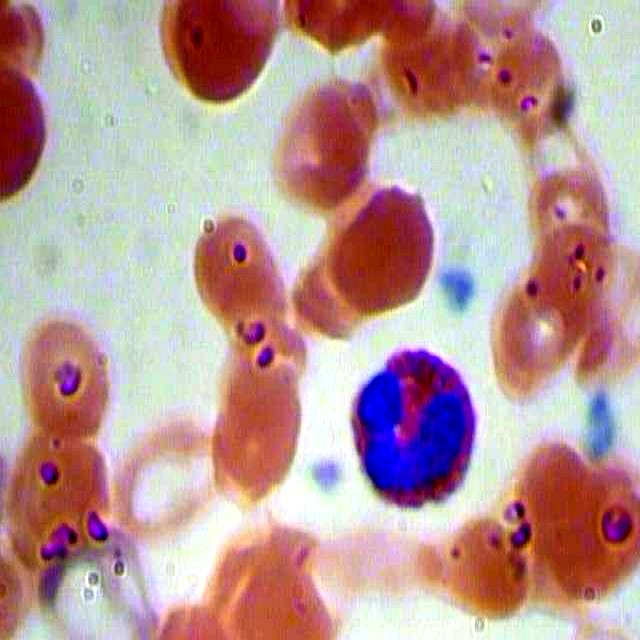Platelets: (438, 264, 474, 312), (306, 456, 345, 497)
RBC: (1, 428, 115, 585), (325, 179, 445, 317), (270, 76, 380, 211), (111, 411, 225, 541), (428, 505, 536, 640), (477, 261, 585, 396), (190, 204, 298, 337), (160, 1, 283, 115), (17, 313, 114, 447), (210, 363, 307, 496), (487, 21, 575, 131), (525, 163, 613, 272)
WBC: (341, 347, 482, 513)
